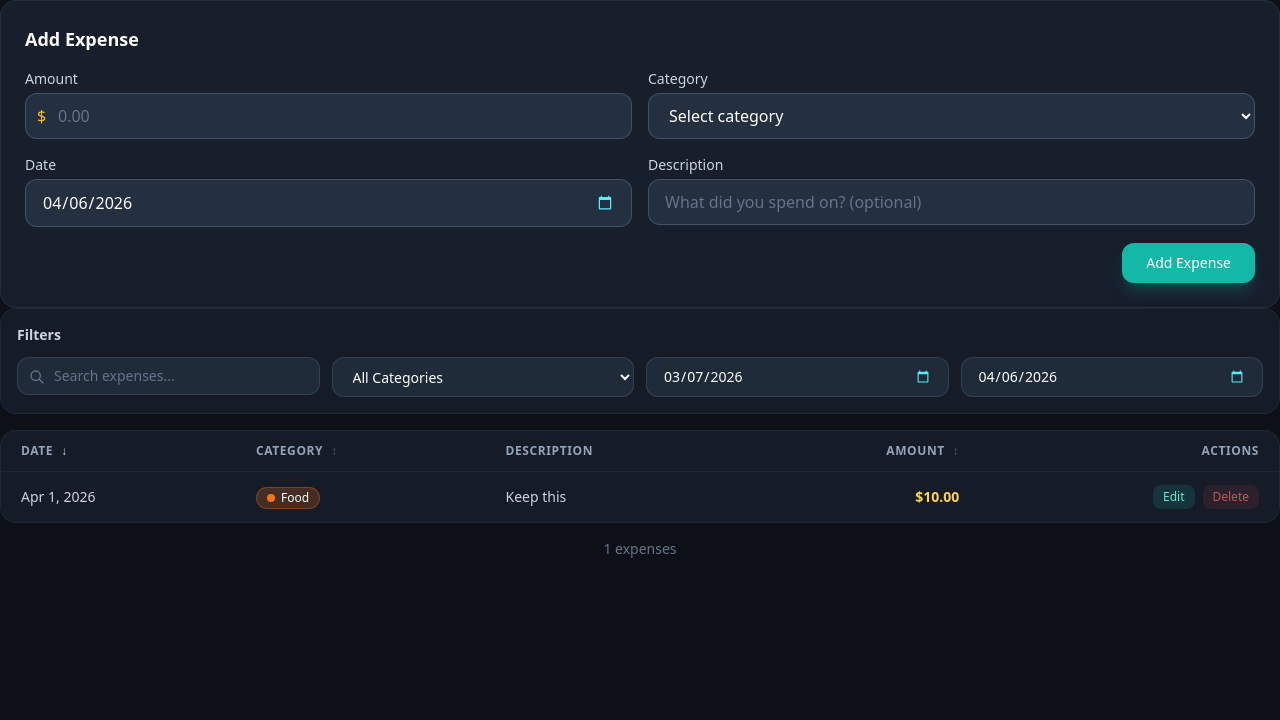
Scenario: Expenses view › editing expenses › cancels editing when cancel is clicked
The width and height of the screenshot is (1280, 720).
Click the button "Edit" at (1174, 496), box [1153, 484, 1194, 508]
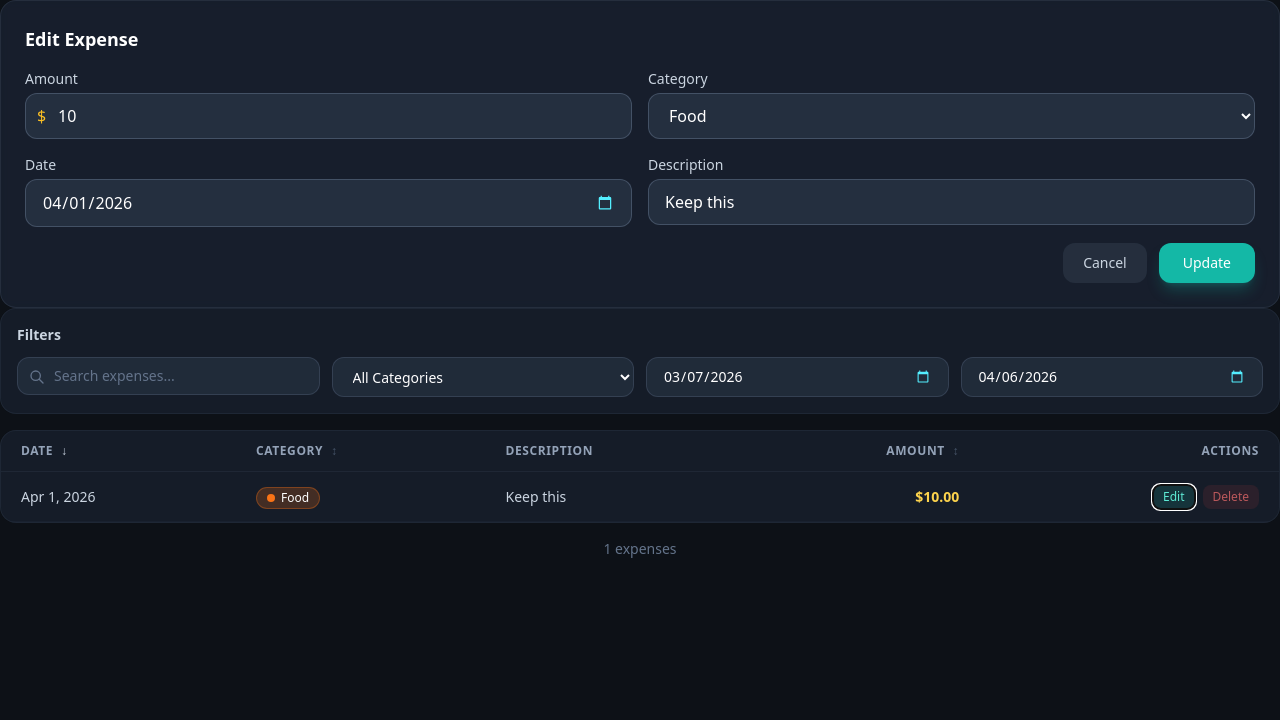
Check: the heading "Edit Expense" is shown, box [25, 27, 138, 51]
Click the button "Cancel" at (1105, 263), box [1063, 243, 1147, 283]
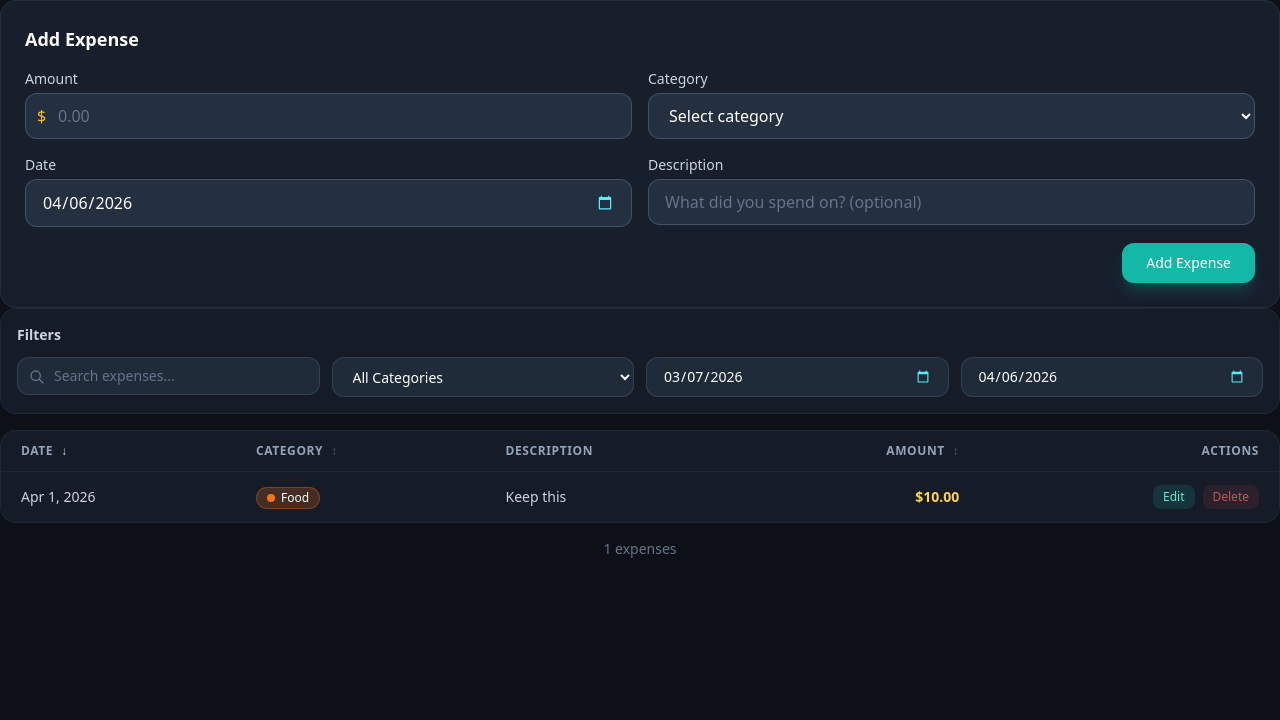
Check: the heading "Add Expense" is shown, box [25, 27, 139, 51]
